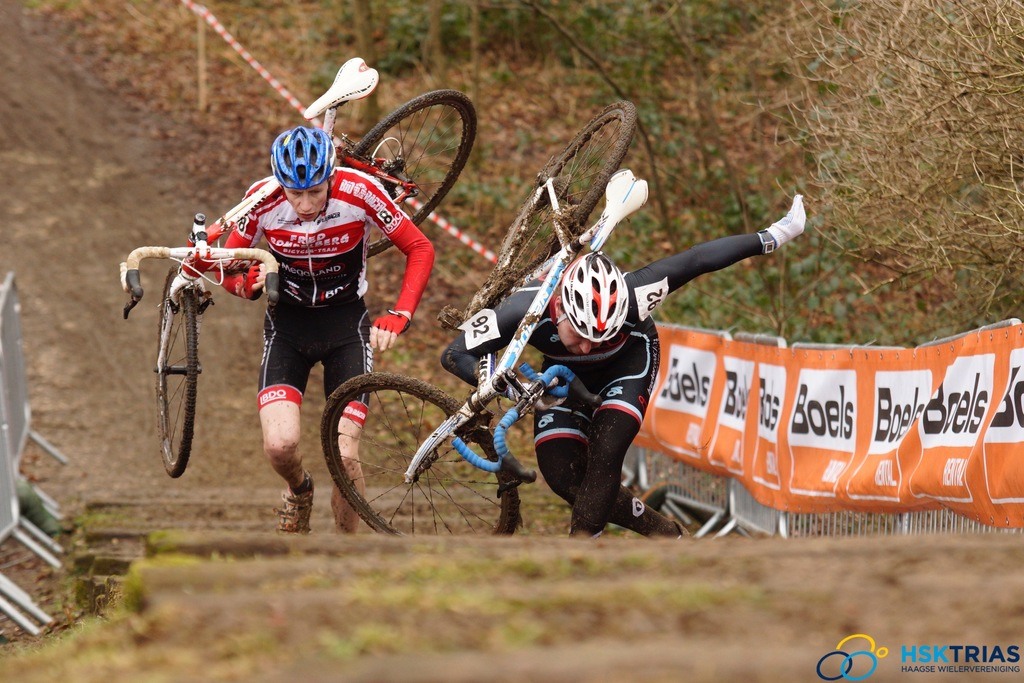Person: (442, 194, 807, 542), (214, 125, 435, 534)
